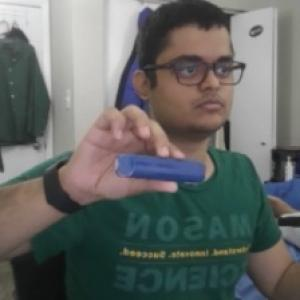Diamond-E-Ciggirate: (109, 152, 208, 186)
